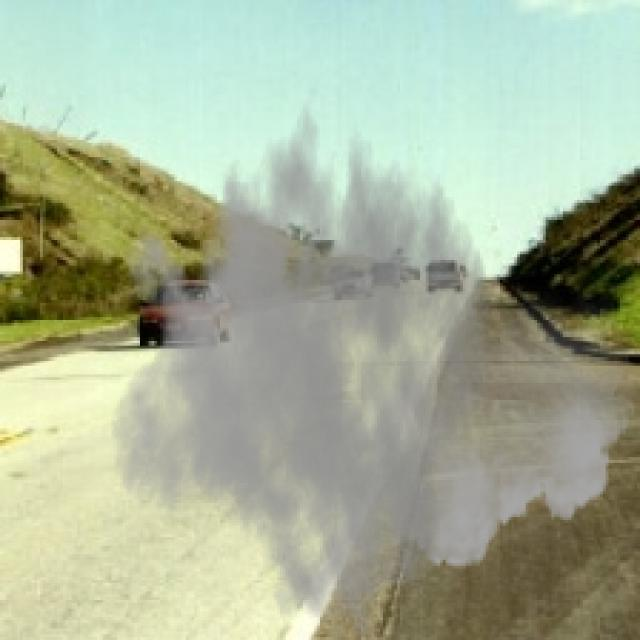smoke: (108, 74, 639, 638)
